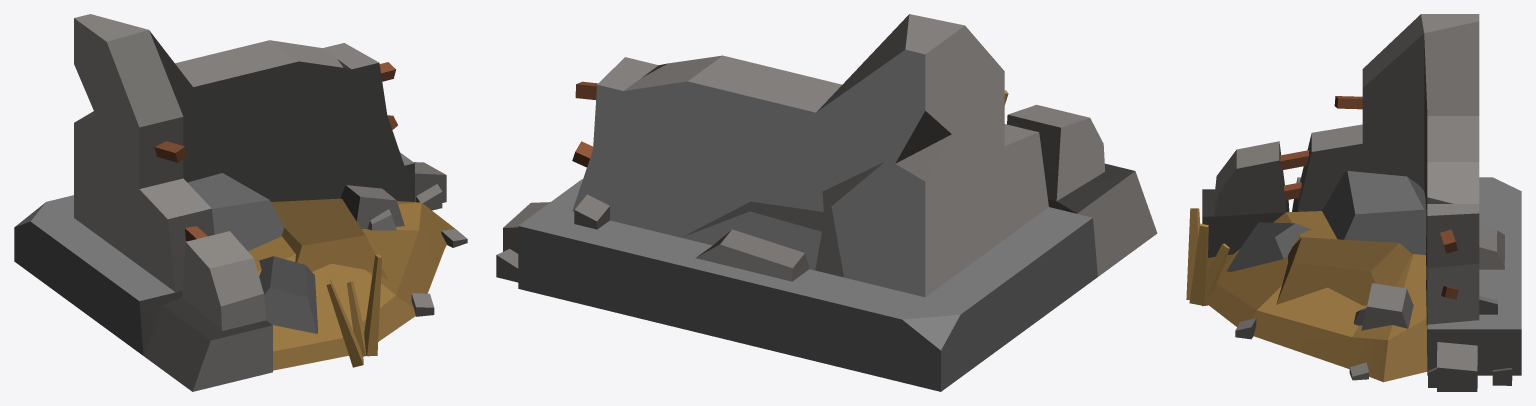
File: BuildingRuin_04.fbx
The picture shows the model from 3 angles, left to right: view 1: azimuth 30°, elevation 25°; view 2: azimuth 150°, elevation 25°; view 3: azimuth 270°, elevation 25°; orthographic projection. The views are drawn at different scales.
Visible parts, largest first — view 1: BuildingRuin_04; view 2: BuildingRuin_04; view 3: BuildingRuin_04.
Boxes of the visible parts, bbox=[...] form: BuildingRuin_04: bbox=[14, 14, 467, 391]; BuildingRuin_04: bbox=[496, 14, 1157, 391]; BuildingRuin_04: bbox=[1186, 14, 1521, 391].
Size of the model in its own units: 3.29 by 2.77 by 2.13.
